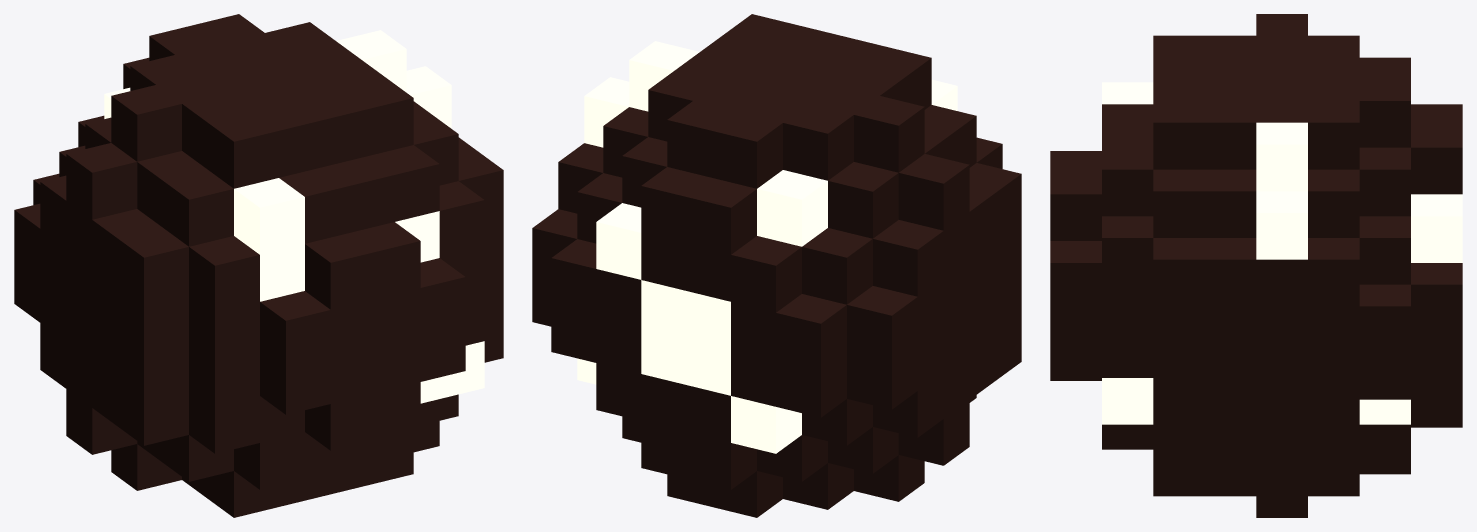
Rendered from titan_magma_core_lod1.glb.
3 views of the same model, side by side, from view 1: azimuth 30°, elevation 25°; view 2: azimuth 150°, elevation 25°; view 3: azimuth 270°, elevation 25° (orthographic).
Parts seen in each view (by area): view 1: titan_magma_core_lod1; view 2: titan_magma_core_lod1; view 3: titan_magma_core_lod1.
Boxes of the visible parts, box(x1,y1,x2,y2) form: titan_magma_core_lod1: box(14, 14, 503, 517); titan_magma_core_lod1: box(532, 14, 1021, 517); titan_magma_core_lod1: box(1050, 14, 1462, 517).
Size of the model in its own units: 0.32 by 0.32 by 0.32.
